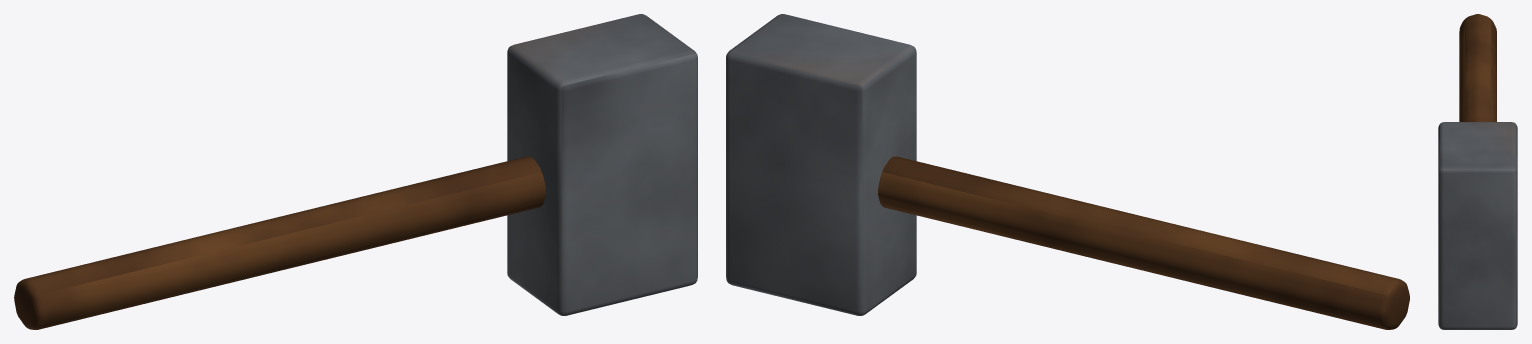
The model's file is unit_builder_mallet.fbx.
3 renders of one model, left to right at view 1: azimuth 30°, elevation 25°; view 2: azimuth 150°, elevation 25°; view 3: azimuth 270°, elevation 25°, orthographic. The views are drawn at different scales.
Visible parts, largest first — view 1: unit_royal_builder_mallet; view 2: unit_royal_builder_mallet; view 3: unit_royal_builder_mallet.
Boxes of the visible parts, x1=… form: unit_royal_builder_mallet: x1=14, y1=14, x2=697, y2=329; unit_royal_builder_mallet: x1=726, y1=14, x2=1409, y2=329; unit_royal_builder_mallet: x1=1438, y1=14, x2=1517, y2=329.
Size of the model in its own units: 0.925 by 0.32 by 0.14.
